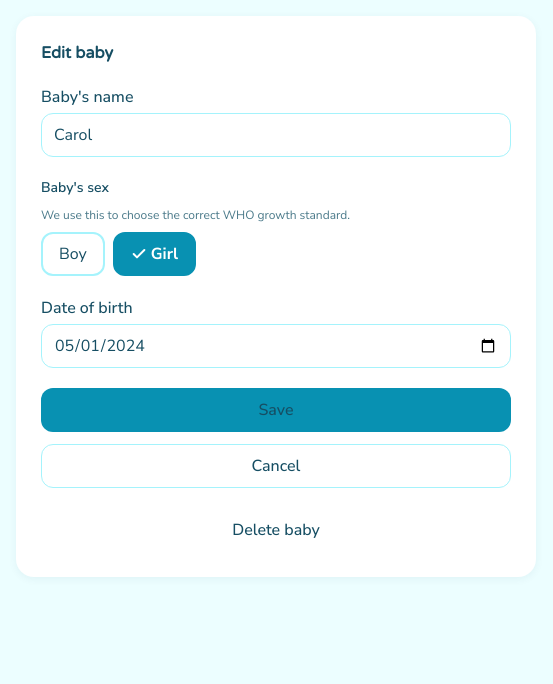
Test: ChildForm — mutation failure › update mutation rejects → Toast shown, form values preserved
Click the button "Save": (276, 410) [41,388,511,432]
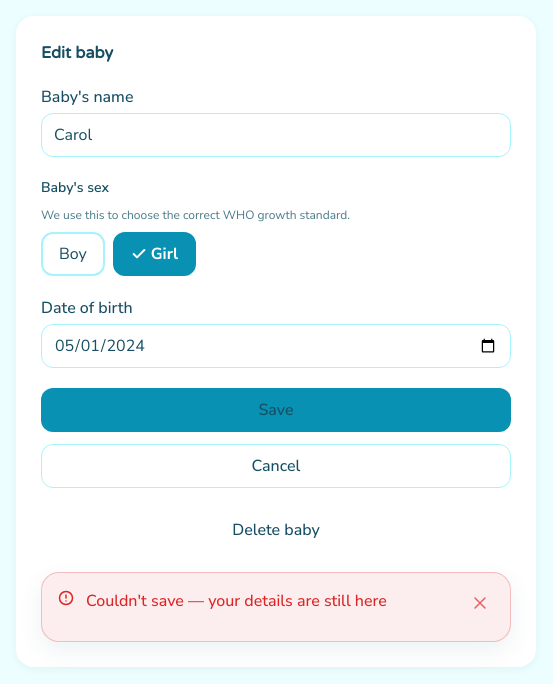
Expected: the field labelled "Baby's name" holds "Carol", [41,113,511,157]
Expected: the text "Couldn't save — your details are still here" is shown, [86,590,387,612]
